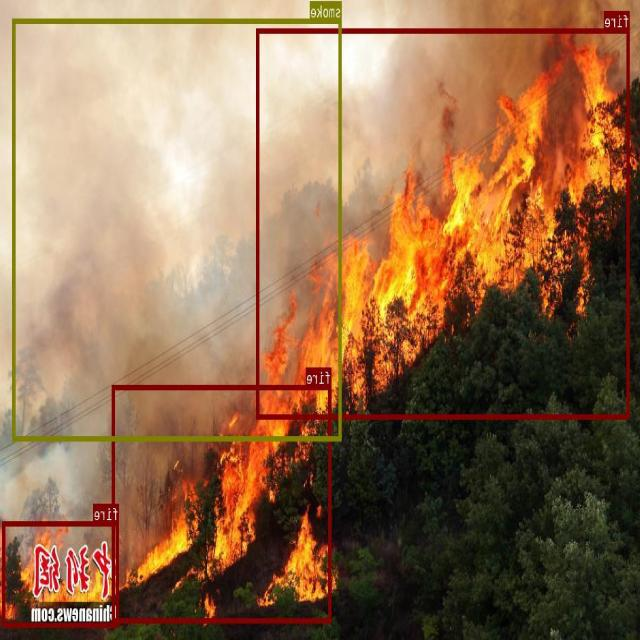fire: (257, 28, 630, 418), (113, 384, 332, 622), (3, 521, 119, 626)
smoke: (14, 18, 342, 440)
